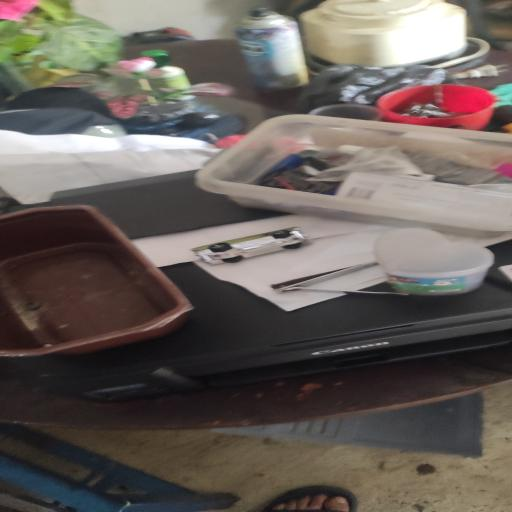Carrito: (191, 227, 310, 265)
